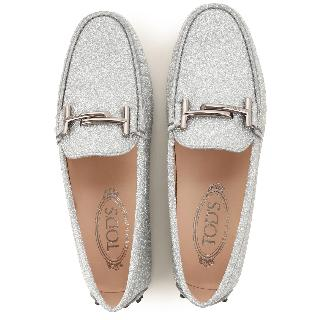loafers: (54, 2, 266, 314)
